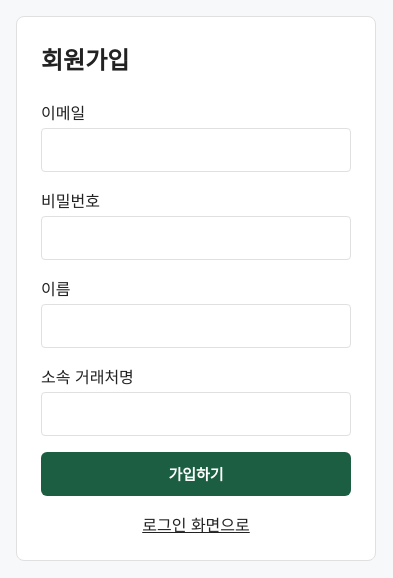
Test: SignupPage › 회원가입 성공 시 로그인 화면으로 이동한다
Type "a@b.com" into the field labelled "이메일".
click(196, 150); type("a@b.com")  # box [41,128,351,172]
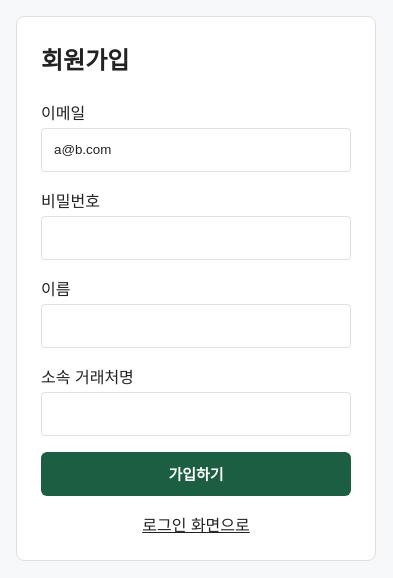
Type "password1" into the password field labelled "비밀번호".
click(196, 238); type("password1")  # box [41,216,351,260]
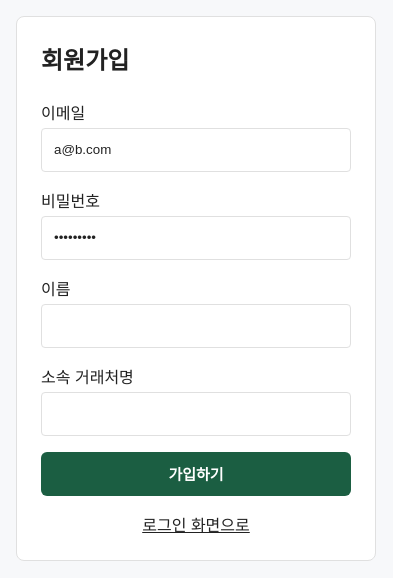
Type "홍길동" into the field labelled "이름".
click(196, 326); type("홍길동")  # box [41,304,351,348]
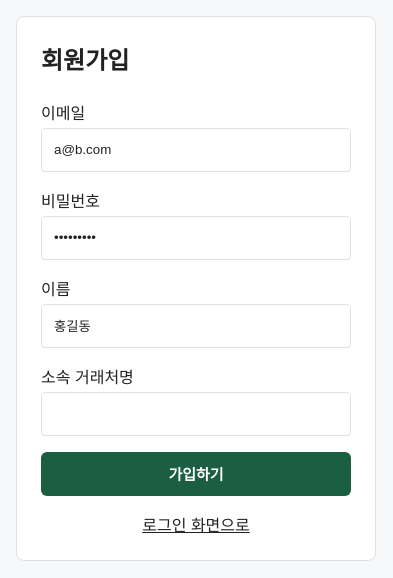
Type "테스트" into the field labelled "소속 거래처명".
click(196, 414); type("테스트")  # box [41,392,351,436]
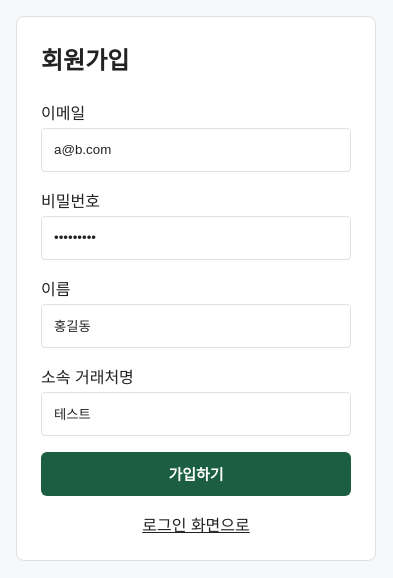
Click the button "가입하기".
click(196, 474)  # box [41,452,351,496]
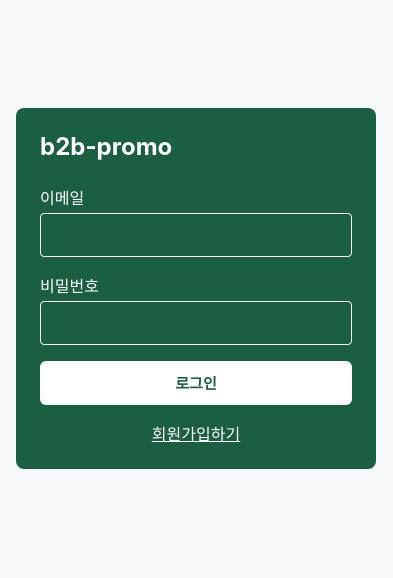
Expected: the button "로그인" is shown, [40,360,352,404]
